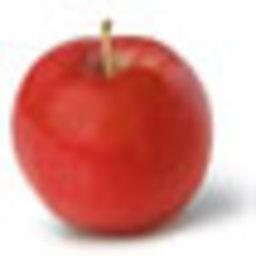apple: (10, 28, 214, 235)
